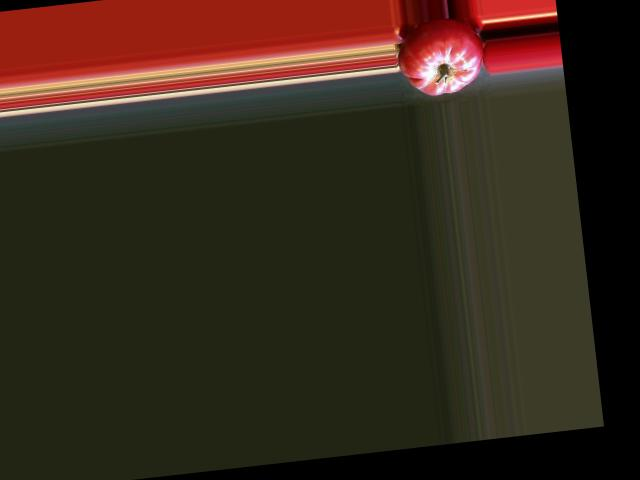tomato: (393, 14, 487, 98)
